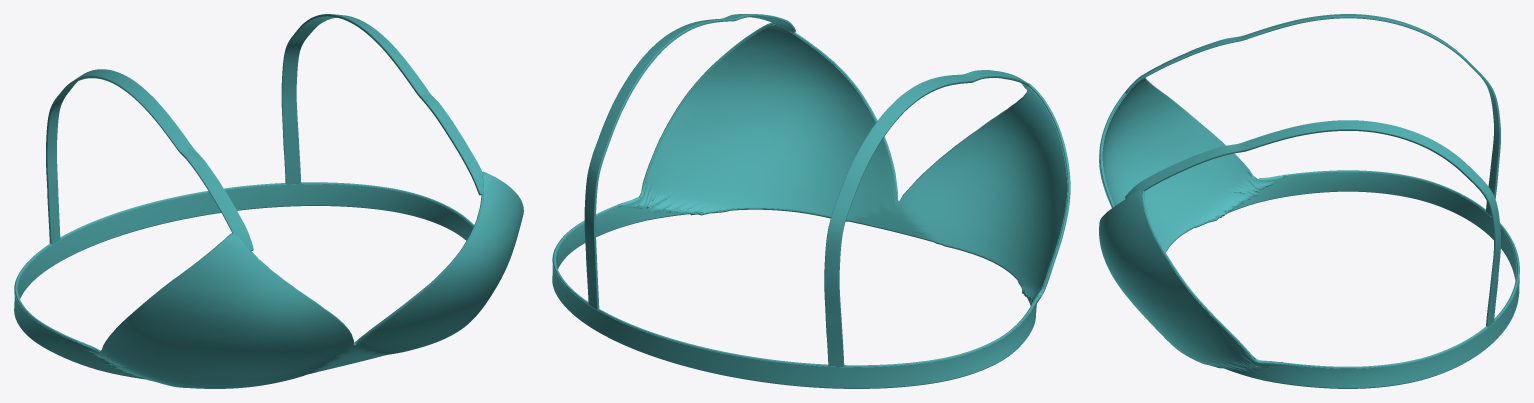
Rendered from Feminine-triangle-top.glb.
3 renders of one model, left to right at view 1: azimuth 30°, elevation 25°; view 2: azimuth 150°, elevation 25°; view 3: azimuth 270°, elevation 25°, orthographic. The views are drawn at different scales.
Parts seen in each view (by area): view 1: Clothing / connected triangle cups and underband, Clothing / Triangle seated shoulder strap 1, Clothing / Triangle seated shoulder strap -1, Triangle / sewn binding 1 export, Triangle / sewn binding 0 export; view 2: Clothing / connected triangle cups and underband, Clothing / Triangle seated shoulder strap -1, Clothing / Triangle seated shoulder strap 1, Triangle / sewn binding 1 export, Triangle / sewn binding 0 export; view 3: Clothing / connected triangle cups and underband, Clothing / Triangle seated shoulder strap 1, Clothing / Triangle seated shoulder strap -1, Triangle / sewn binding 1 export, Triangle / sewn binding 0 export.
Part boxes in pixels (x1,y1,x2,y2): Clothing / connected triangle cups and underband: (14,173,523,388); Clothing / Triangle seated shoulder strap 1: (281,14,483,195); Clothing / Triangle seated shoulder strap -1: (46,69,253,250); Triangle / sewn binding 1 export: (14,171,510,349); Triangle / sewn binding 0 export: (23,205,441,379); Clothing / connected triangle cups and underband: (552,23,1070,388); Clothing / Triangle seated shoulder strap -1: (824,70,1028,366); Clothing / Triangle seated shoulder strap 1: (584,14,795,309); Triangle / sewn binding 1 export: (552,22,1070,367); Triangle / sewn binding 0 export: (580,208,1025,388); Clothing / connected triangle cups and underband: (1099,75,1519,388); Clothing / Triangle seated shoulder strap 1: (1125,120,1500,327); Clothing / Triangle seated shoulder strap -1: (1125,14,1500,216); Triangle / sewn binding 1 export: (1100,75,1519,368); Triangle / sewn binding 0 export: (1165,191,1485,388).
Size of the model in its own units: 0.5729 by 0.3039 by 0.513.
